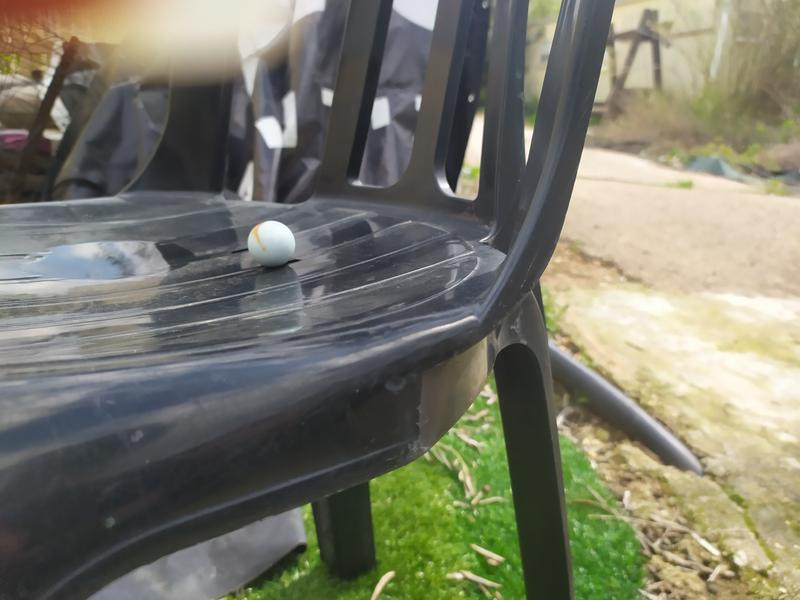Warning: (245, 219, 297, 269)
